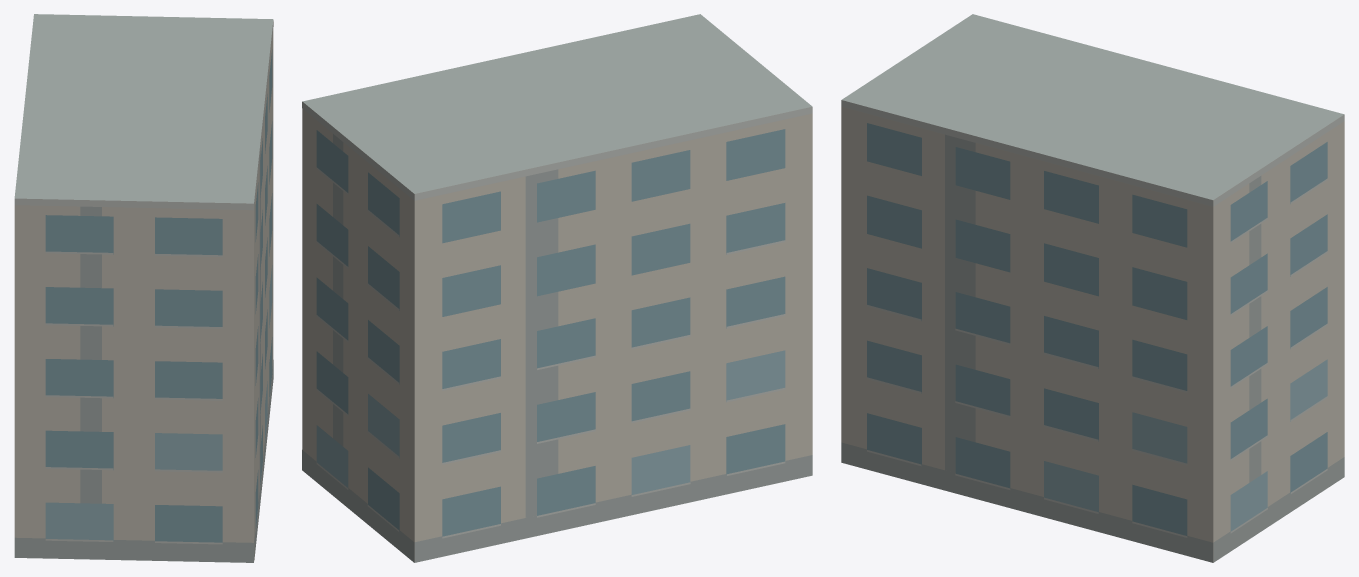
The model's file is survey-upis-32881266.glb.
3 renders of one model, left to right at view 1: azimuth 30°, elevation 25°; view 2: azimuth 150°, elevation 25°; view 3: azimuth 270°, elevation 25°, orthographic. The views are drawn at different scales.
Visible parts, largest first — view 1: survey-upis-32881266.tmp; view 2: survey-upis-32881266.tmp; view 3: survey-upis-32881266.tmp.
Part boxes in pixels (x1,y1,x2,y2): survey-upis-32881266.tmp: [14, 14, 273, 562]; survey-upis-32881266.tmp: [302, 14, 812, 562]; survey-upis-32881266.tmp: [841, 14, 1344, 562].
Size of the model in its own units: 14.54 by 13.2 by 16.61.
